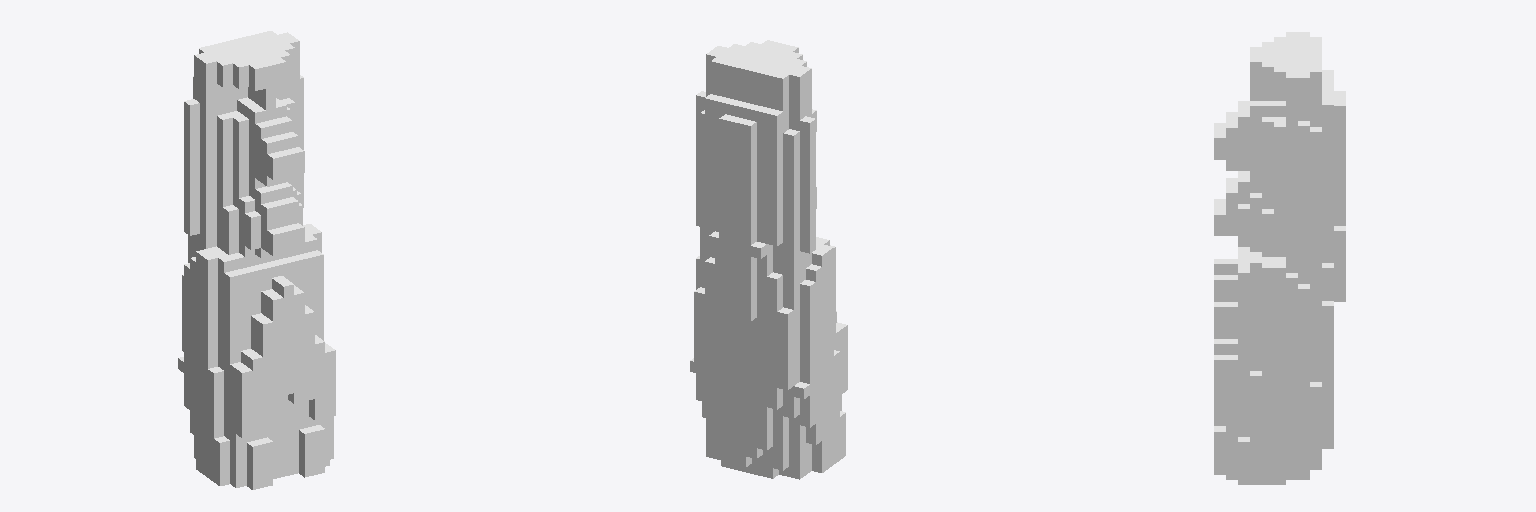
Rendered from lvl3-6.obj.
The picture shows the model from 3 angles: view 1: azimuth 30°, elevation 25°; view 2: azimuth 150°, elevation 25°; view 3: azimuth 270°, elevation 25°; orthographic projection.
Parts seen in each view (by area): view 1: object 1; view 2: object 1; view 3: object 1.
Part boxes in pixels (bbox=[...]): object 1: bbox=[178, 31, 335, 489]; object 1: bbox=[690, 40, 847, 479]; object 1: bbox=[1214, 32, 1345, 484].
Bounding box in the file's own units: 1.1 × 3.7 × 1.1.